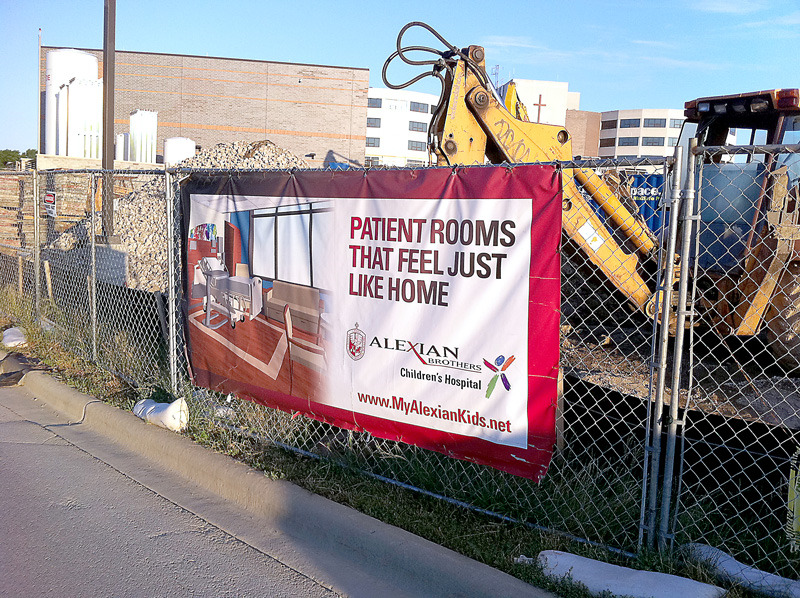vinyl banner: (170, 157, 584, 487)
